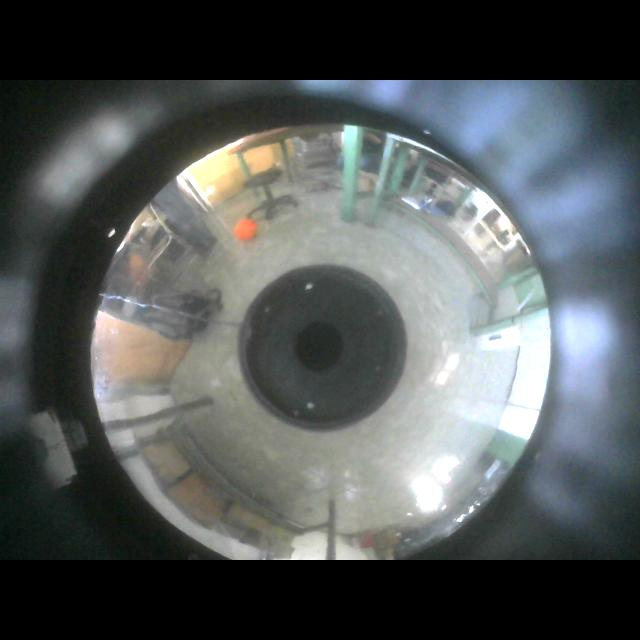bola: (235, 219, 256, 241)
